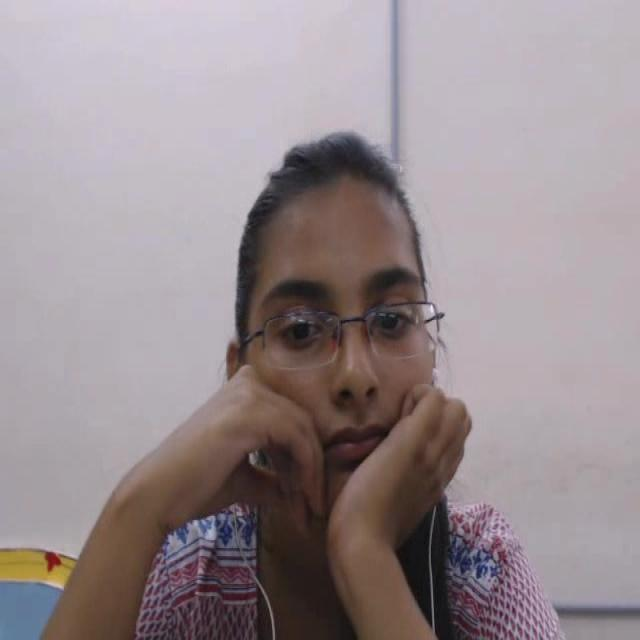Bored: (168, 79, 516, 581)
